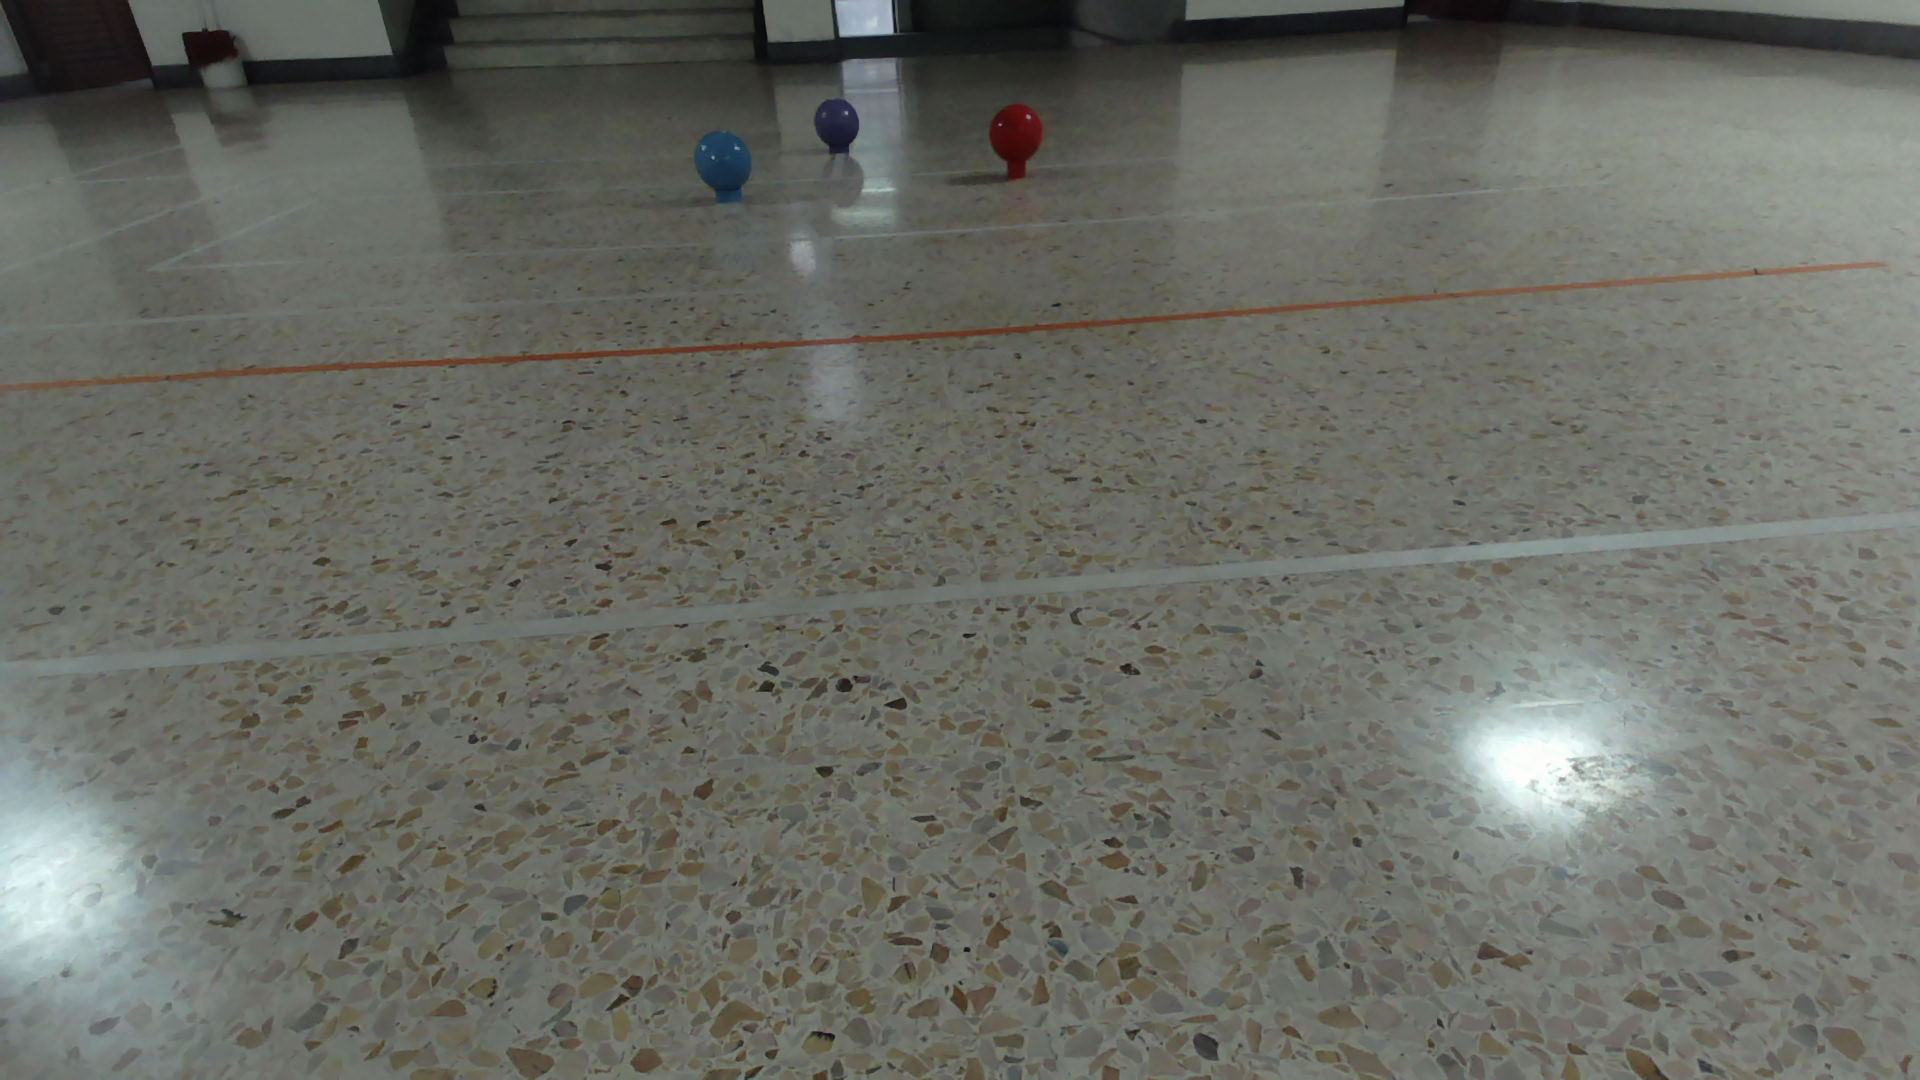Blue ball: (691, 128, 752, 193)
Purple ball: (814, 98, 860, 149)
Red ball: (986, 102, 1044, 165)
